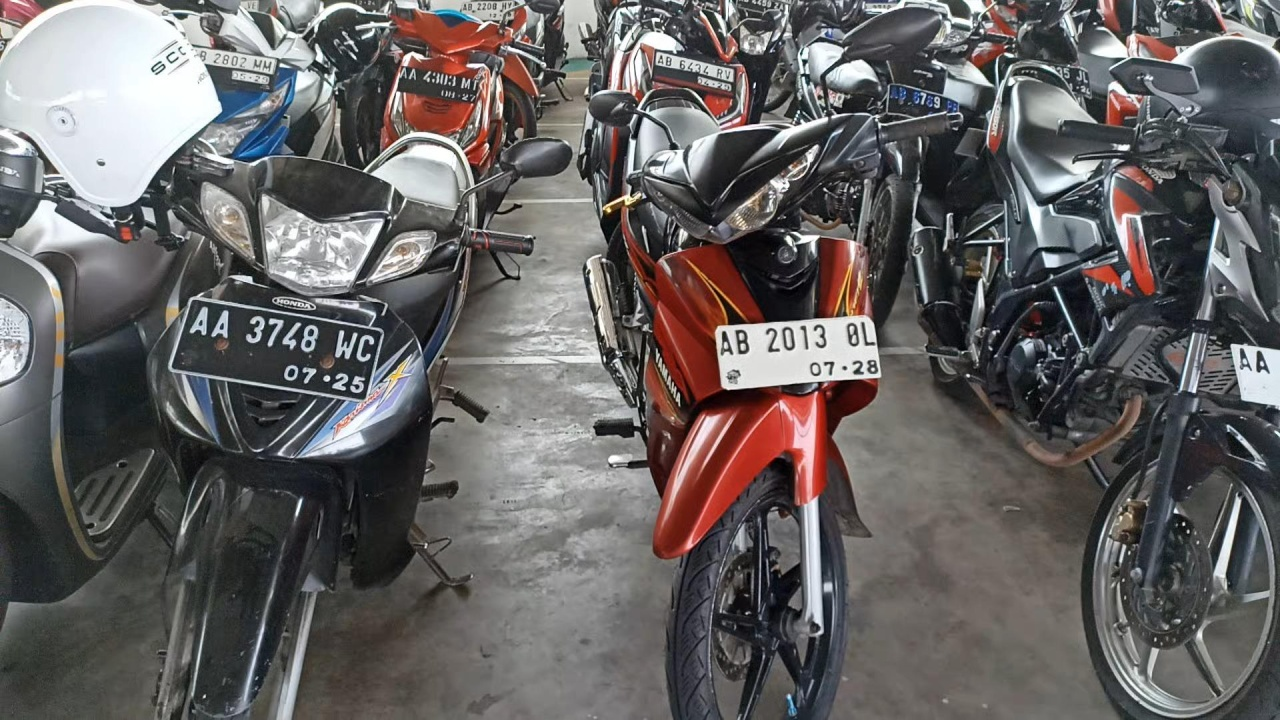plate: (168, 296, 385, 404), (714, 315, 881, 389), (654, 49, 736, 98), (397, 65, 480, 104)
